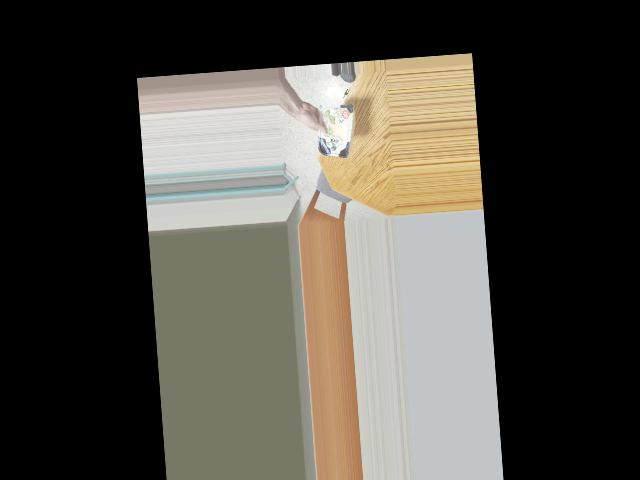cheese: (308, 110, 355, 156)
